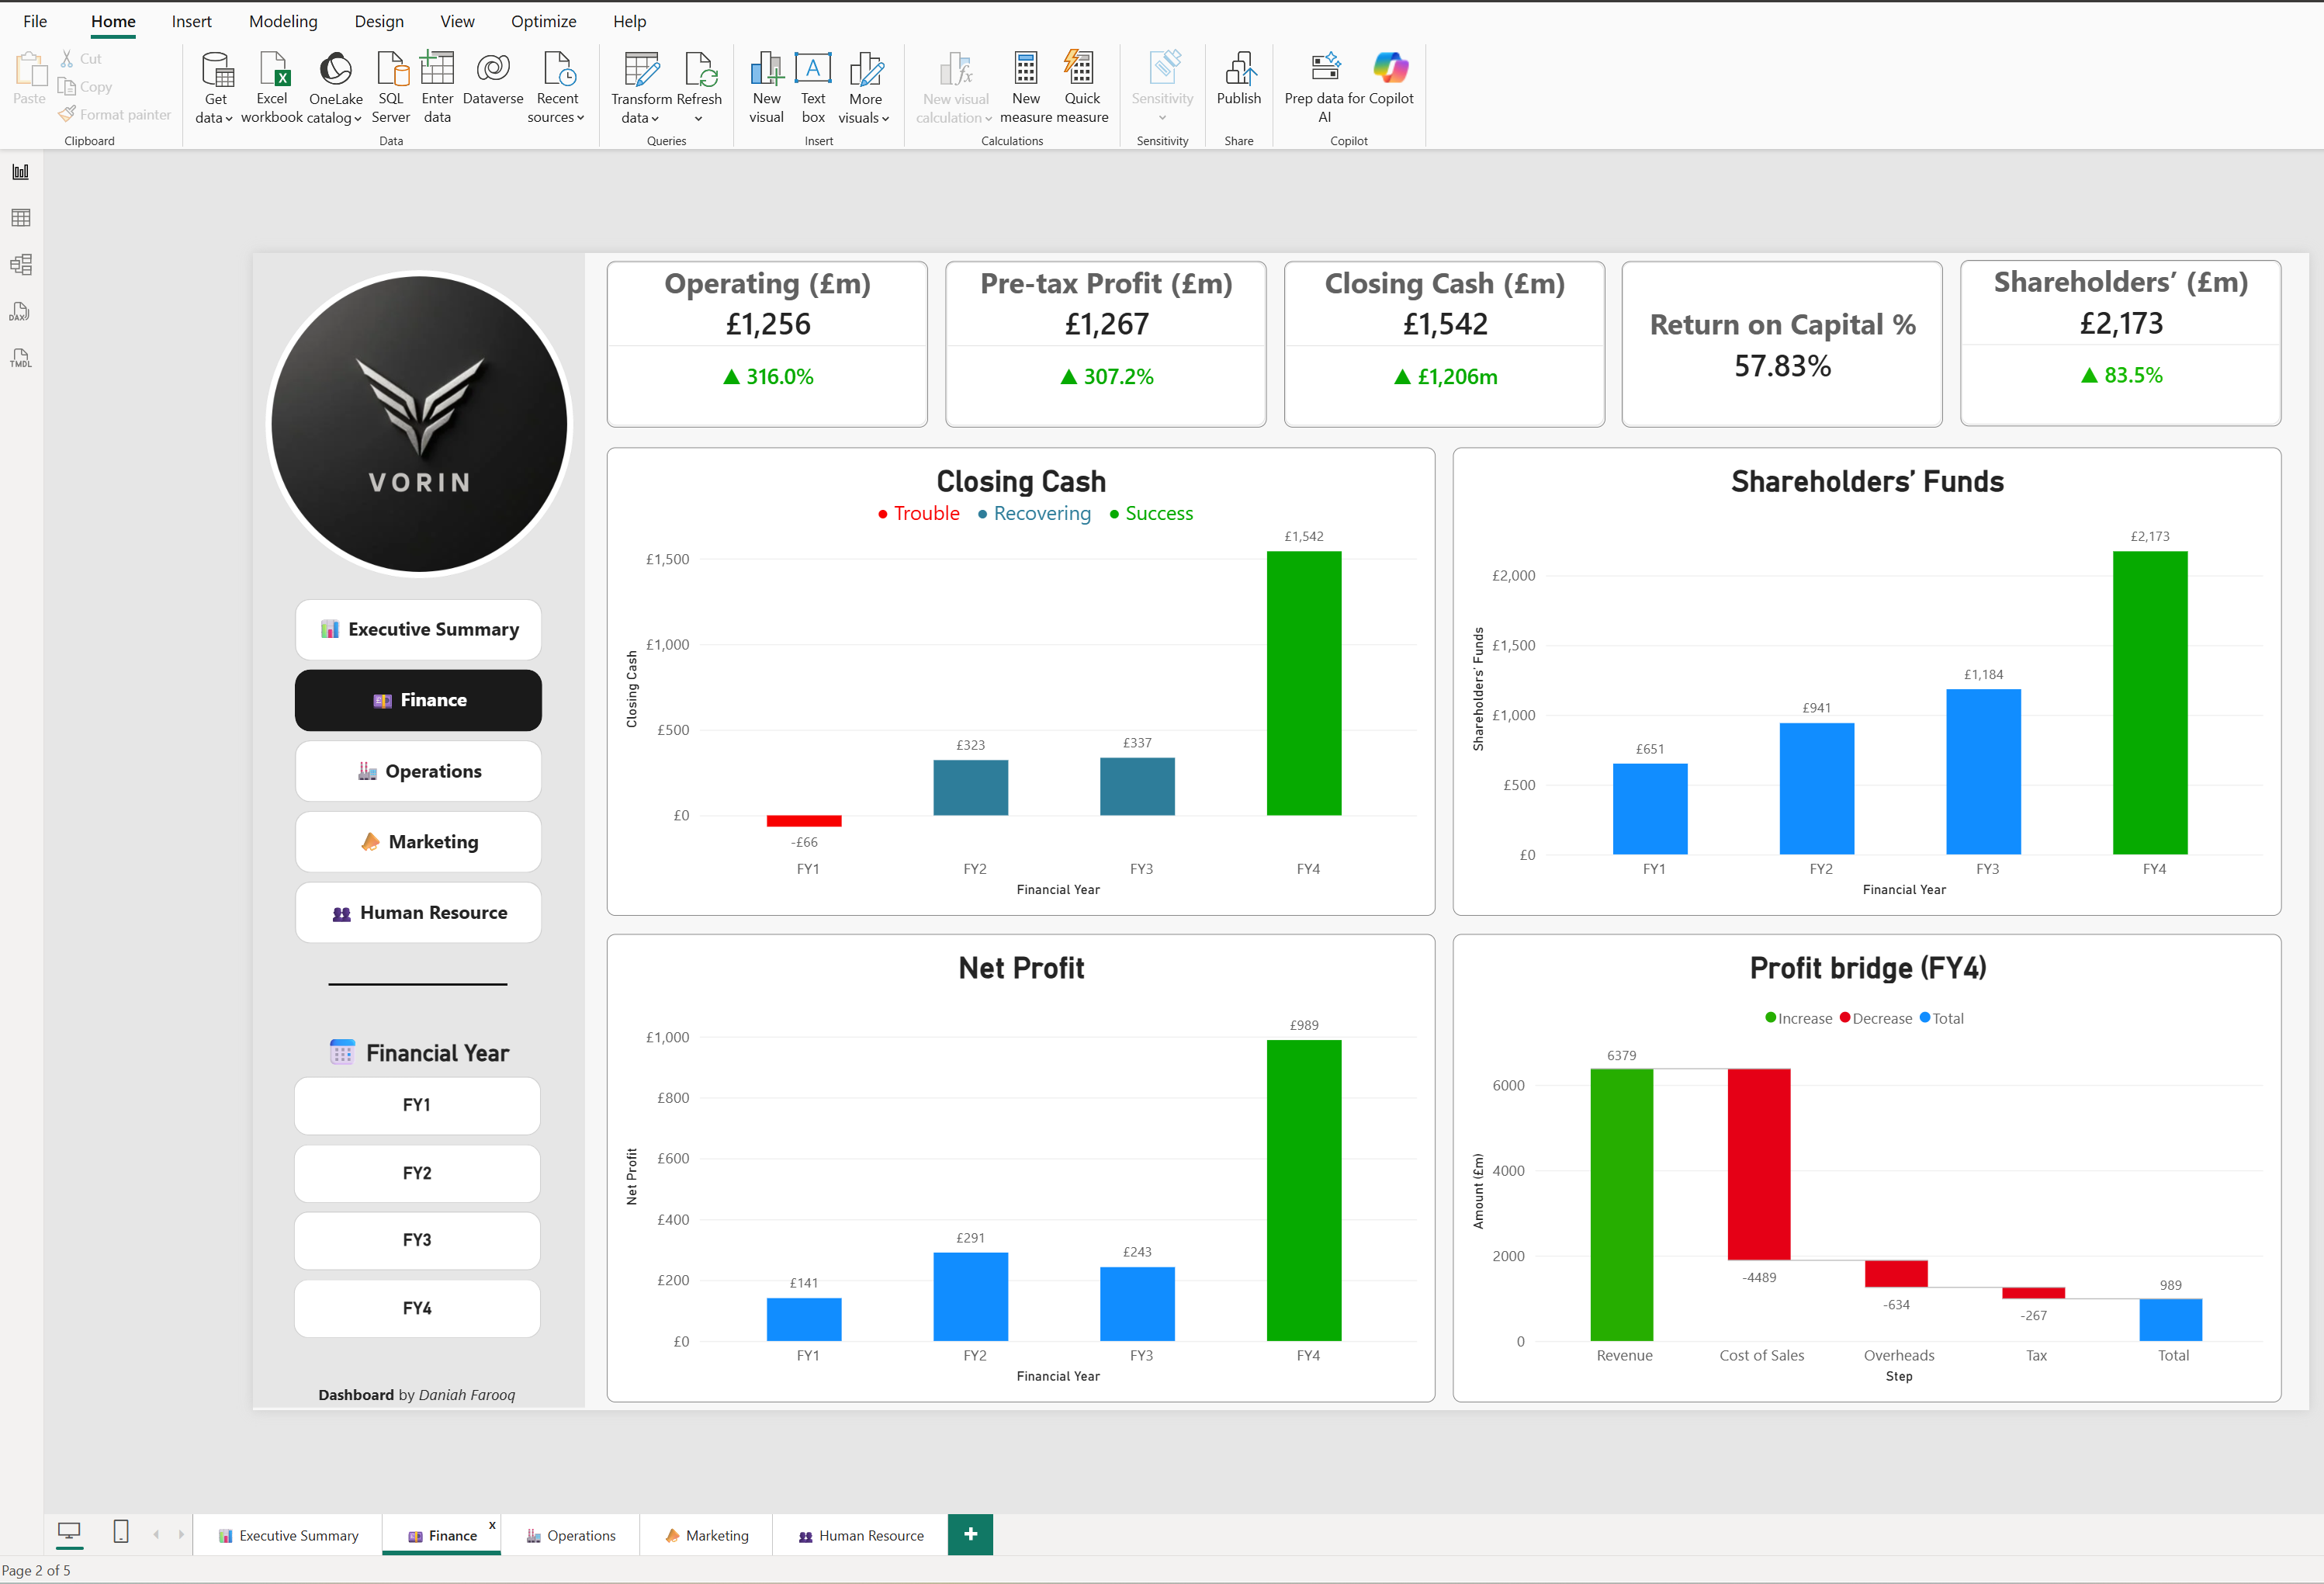

The page's visual inventory and layout, read from the dashboard file:
{"tool":"powerbi","page":{"name":"💷 Finance","canvas":[1920,1080],"ordinal":1},"visuals":[{"type":"clusteredColumnChart","title":"Closing Cash ","fields":{"Category":["Rounds.Financial Year"],"Y":["_Measures.Closing Cash"]},"box":[330,182,774,437],"z":0},{"type":"textbox","box":[509,229,443.5,33.9],"z":1000},{"type":"clusteredColumnChart","title":"Net Profit ","fields":{"Category":["Rounds.Financial Year"],"Y":["_Measures.Net Profit"]},"box":[330,636,774,437],"z":2000},{"type":"clusteredColumnChart","title":"Shareholders’ Funds ","fields":{"Category":["Rounds.Financial Year"],"Y":["_Measures.Shareholders Funds"]},"box":[1121,182,774,437],"z":3000},{"type":"cardVisual","fields":{"Data":["_Measures.Operating Profit (Latest)"]},"box":[330,7.2,300,155],"z":4000},{"type":"cardVisual","fields":{"Data":["_Measures.Pre Tax Profit (Latest)"]},"box":[646.2,7.2,300,155],"z":5000},{"type":"cardVisual","fields":{"Data":["_Measures.Shareholders Funds (Latest)"]},"box":[1595,7,300,155],"z":6000},{"type":"cardVisual","fields":{"Data":["_Measures.ROCE (Latest)"]},"box":[1278.8,7.2,300,155],"z":7000},{"type":"cardVisual","fields":{"Data":["_Measures.Closing Cash (Latest)"]},"box":[962.5,7.2,300,155],"z":8000},{"type":"shape","box":[0,0,310.2,1077.9],"z":9000},{"type":"image","box":[5.4,9.5,300,300],"z":10000},{"type":"pageNavigator","box":[38.8,322.6,231.1,322.6],"z":11000},{"type":"waterfallChart","title":"Profit bridge (FY4)","fields":{"Category":["PL_Waterfall.Step"],"Y":["Sum(PL_Waterfall.Amount)"]},"box":[1121,636,774,437],"z":12000},{"type":"textbox","box":[58,1055,191,25],"z":13000},{"type":"advancedSlicerVisual","title":"📅 Financial Year","fields":{"Values":["Rounds.RoundLabel"]},"box":[38,728,231.1,286.9],"z":14000},{"type":"shape","box":[71,581,167,203],"z":15000}]}

Visuals, with their boxes on the page's 1920x1080 design canvas (x1, y1, x2, y2). These are canvas units, not pixel positions in the 2324x1584 screenshot, which may show the page scaled, cropped or inside an application window:
"Closing Cash " clusteredColumnChart: pyautogui.locateOnScreen(330, 182, 1104, 619)
textbox: pyautogui.locateOnScreen(509, 229, 952, 263)
"Net Profit " clusteredColumnChart: pyautogui.locateOnScreen(330, 636, 1104, 1073)
"Shareholders’ Funds " clusteredColumnChart: pyautogui.locateOnScreen(1121, 182, 1895, 619)
cardVisual - _Measures.Operating Profit (Latest): pyautogui.locateOnScreen(330, 7, 630, 162)
cardVisual - _Measures.Pre Tax Profit (Latest): pyautogui.locateOnScreen(646, 7, 946, 162)
cardVisual - _Measures.Shareholders Funds (Latest): pyautogui.locateOnScreen(1595, 7, 1895, 162)
cardVisual - _Measures.ROCE (Latest): pyautogui.locateOnScreen(1279, 7, 1579, 162)
cardVisual - _Measures.Closing Cash (Latest): pyautogui.locateOnScreen(962, 7, 1262, 162)
shape: pyautogui.locateOnScreen(0, 0, 310, 1078)
image: pyautogui.locateOnScreen(5, 10, 305, 310)
pageNavigator: pyautogui.locateOnScreen(39, 323, 270, 645)
"Profit bridge (FY4)" waterfallChart: pyautogui.locateOnScreen(1121, 636, 1895, 1073)
textbox: pyautogui.locateOnScreen(58, 1055, 249, 1080)
"📅 Financial Year" advancedSlicerVisual: pyautogui.locateOnScreen(38, 728, 269, 1015)
shape: pyautogui.locateOnScreen(71, 581, 238, 784)
